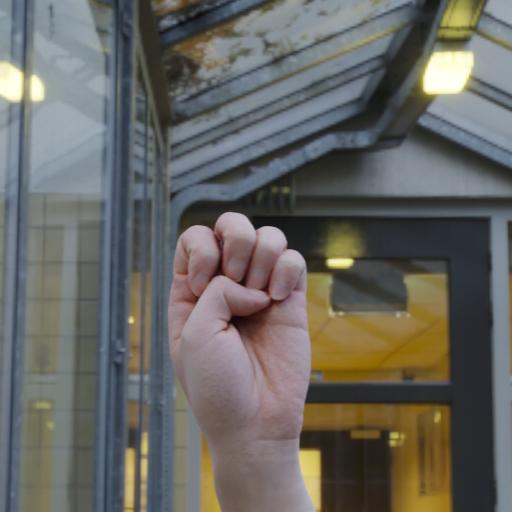E: (162, 208, 313, 462)
